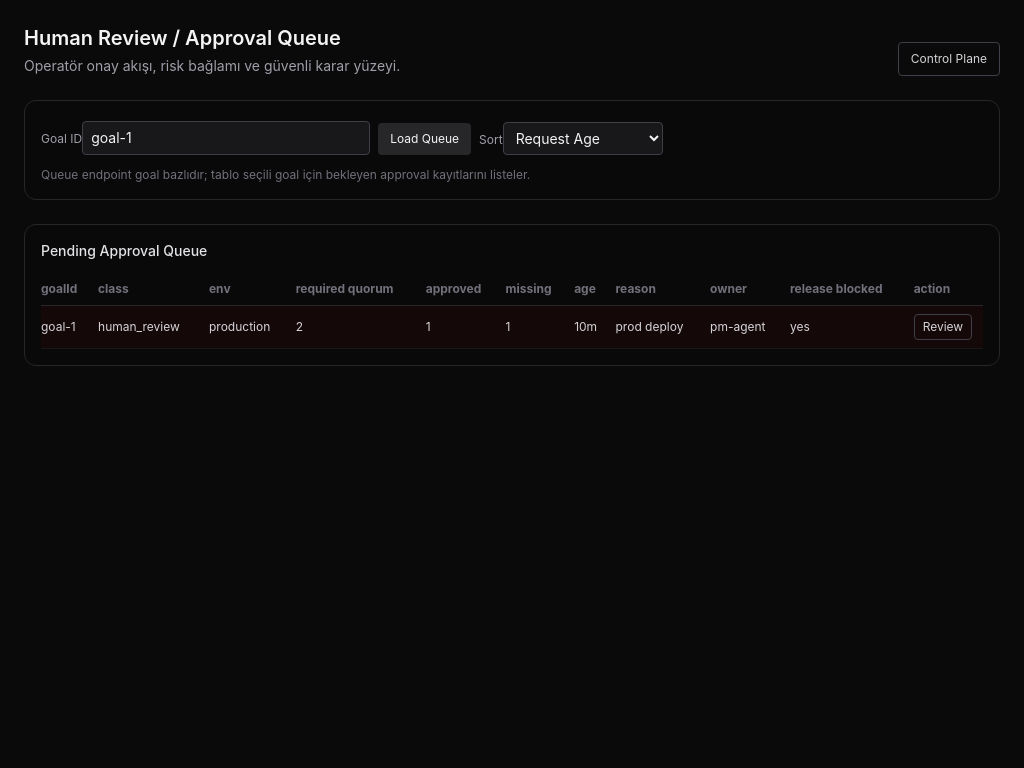
Test: ApprovalQueuePage › expired approval shows disabled state
The width and height of the screenshot is (1024, 768).
Click the button "Review".
click(943, 327)  # box [914,314,972,340]
(page scrolled)
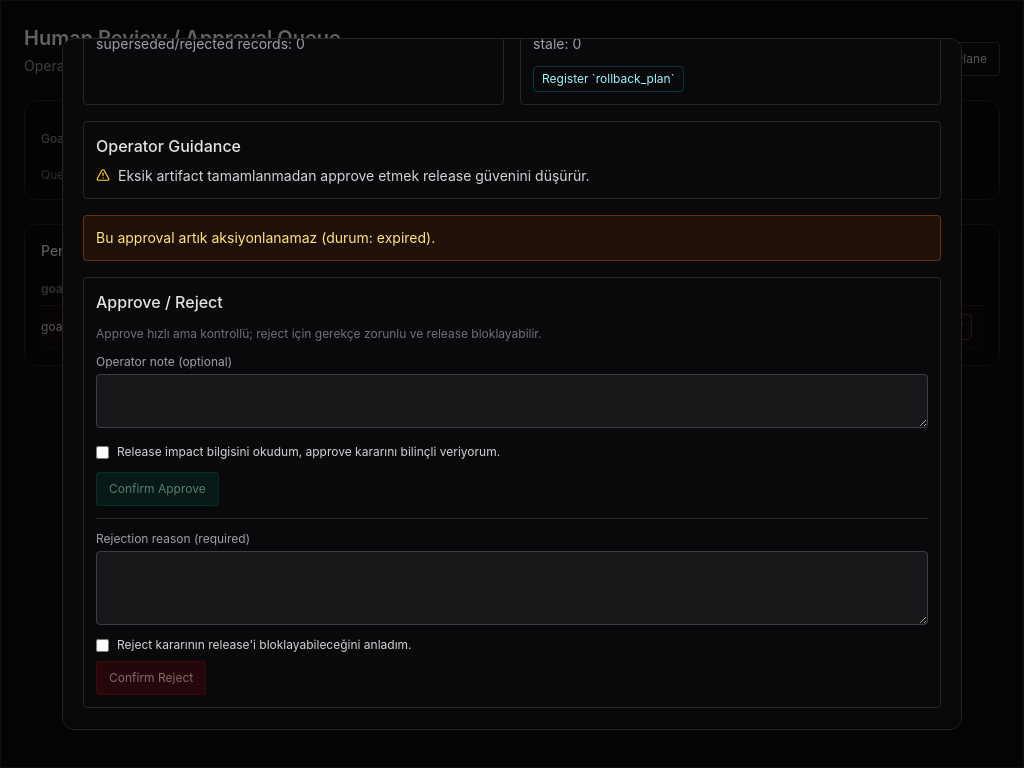
Result: the text "Bu approval artık aksiyonlanamaz (durum: expired)." is shown at [83,215,941,261]
Result: the button "Confirm Approve" is disabled at [96,472,219,506]
